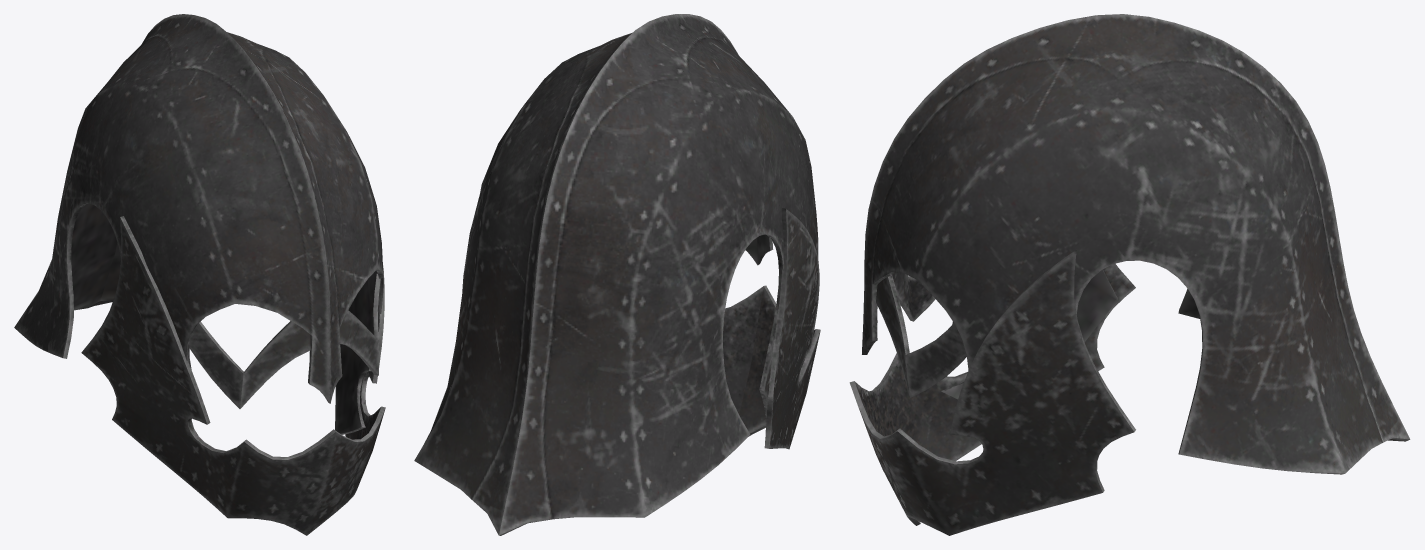
Rendered from sk_uruk_mordor_helmet_heavy_a2.fbx.
3 views of the same model, side by side, from view 1: azimuth 30°, elevation 25°; view 2: azimuth 150°, elevation 25°; view 3: azimuth 270°, elevation 25° (orthographic). The views are drawn at different scales.
Parts seen in each view (by area): view 1: sk_uruk_mordor_helmet_heavy_a2; view 2: sk_uruk_mordor_helmet_heavy_a2; view 3: sk_uruk_mordor_helmet_heavy_a2.
Boxes of the visible parts, left/top/right/bottom form: sk_uruk_mordor_helmet_heavy_a2: left=14, top=14, right=385, bottom=535; sk_uruk_mordor_helmet_heavy_a2: left=414, top=14, right=820, bottom=535; sk_uruk_mordor_helmet_heavy_a2: left=849, top=14, right=1410, bottom=535.
Size of the model in its own units: 0.1989 by 0.3225 by 0.3248.
Materials: 1 (1 with a texture image).
